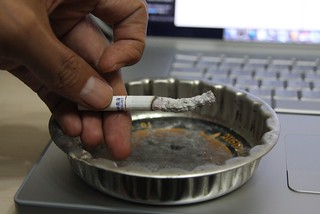cigarette: (74, 88, 218, 114)
